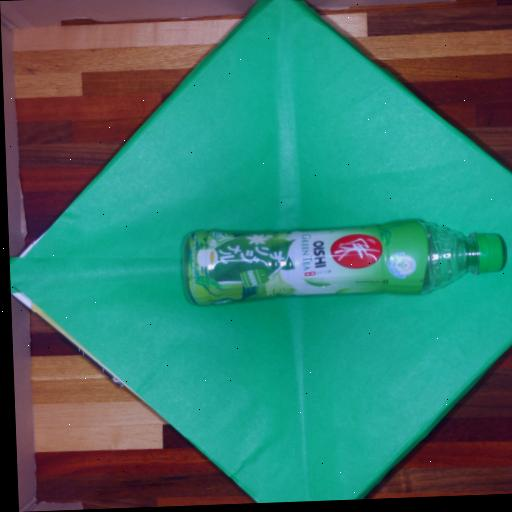bottle: (158, 200, 512, 321)
